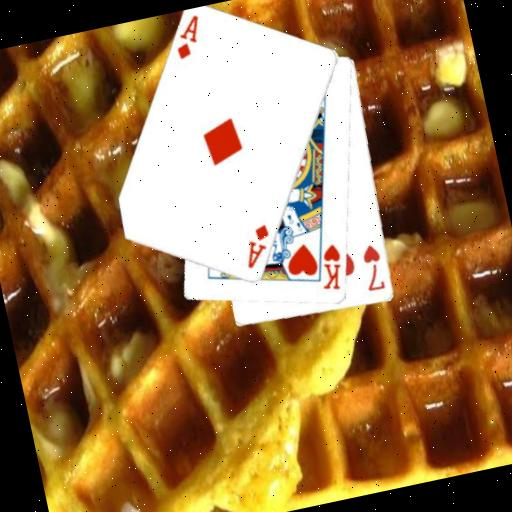7H: (355, 240, 388, 294)
AD: (236, 220, 278, 271), (167, 11, 208, 62)
KH: (312, 240, 349, 295)
